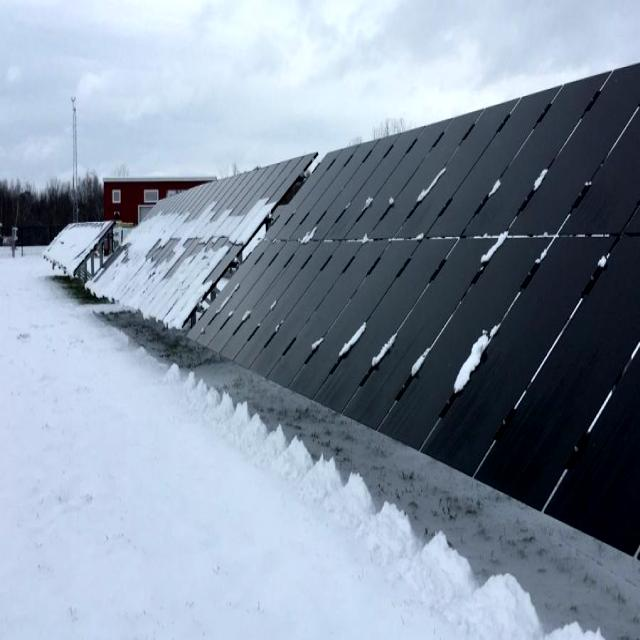panel: (444, 302, 508, 405), (198, 199, 274, 256), (100, 260, 184, 310), (370, 304, 406, 392), (335, 312, 383, 375), (404, 146, 457, 202), (476, 212, 519, 276), (136, 208, 192, 252), (402, 340, 438, 398), (524, 142, 560, 198), (478, 156, 508, 208), (55, 222, 87, 266), (382, 227, 431, 255), (186, 278, 220, 308), (364, 186, 403, 212), (297, 227, 333, 255), (354, 230, 386, 258), (592, 233, 609, 285), (304, 330, 333, 358), (266, 302, 282, 323), (240, 308, 254, 326)
